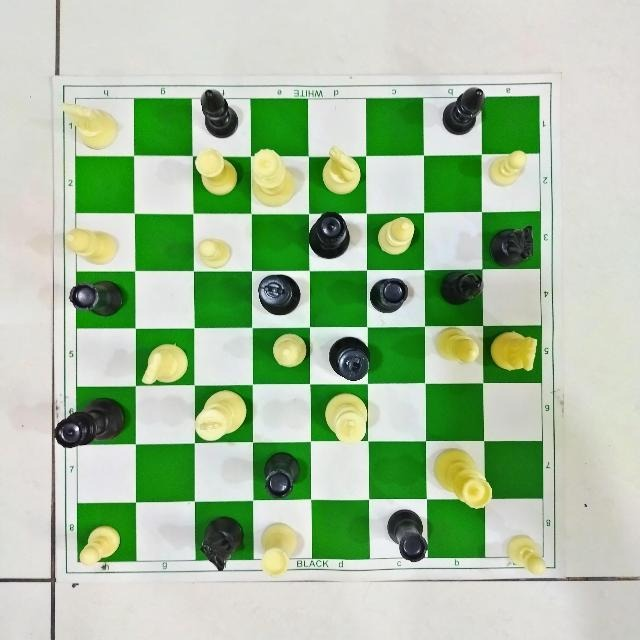black-bishop: (190, 82, 242, 140), (435, 86, 487, 142), (436, 261, 488, 311)
black-king: (325, 332, 377, 387), (254, 268, 304, 316)
black-knight: (193, 510, 248, 574), (490, 217, 540, 272)
black-queen: (51, 398, 127, 450), (308, 207, 356, 260)
black-rook: (377, 503, 430, 567), (69, 272, 127, 322), (255, 447, 307, 499), (366, 274, 412, 320)
white-bishop: (62, 215, 122, 269), (367, 212, 425, 264), (429, 320, 482, 368), (265, 324, 311, 372)
white-king: (309, 388, 376, 454), (193, 390, 252, 448)
white-knight: (58, 93, 127, 155), (134, 335, 196, 391), (313, 145, 370, 198), (488, 327, 540, 379)
white-pawn: (503, 523, 553, 582), (184, 228, 239, 281), (75, 518, 123, 577), (487, 142, 533, 192)
white-queen: (430, 442, 502, 514), (245, 145, 300, 203)
white-rook: (254, 515, 302, 579), (193, 146, 238, 199)
